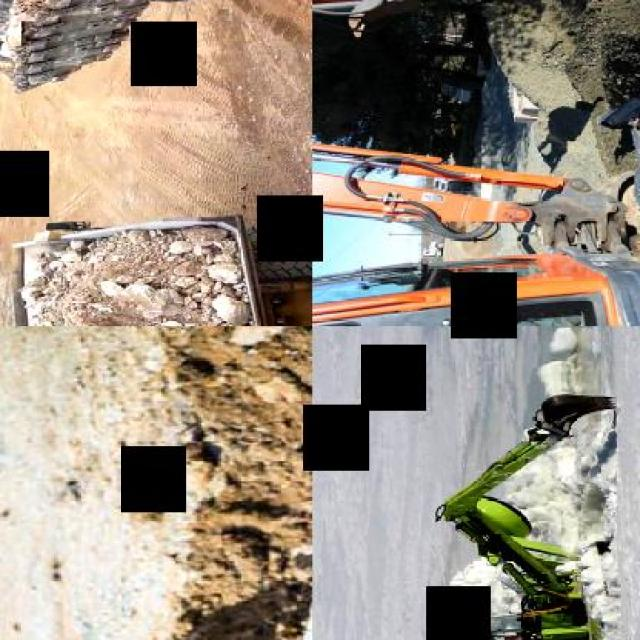buldozerpayloadergrader: (0, 0, 295, 97)
dump_truck: (2, 209, 310, 325)
excavator: (312, 0, 638, 325), (428, 391, 617, 638)
